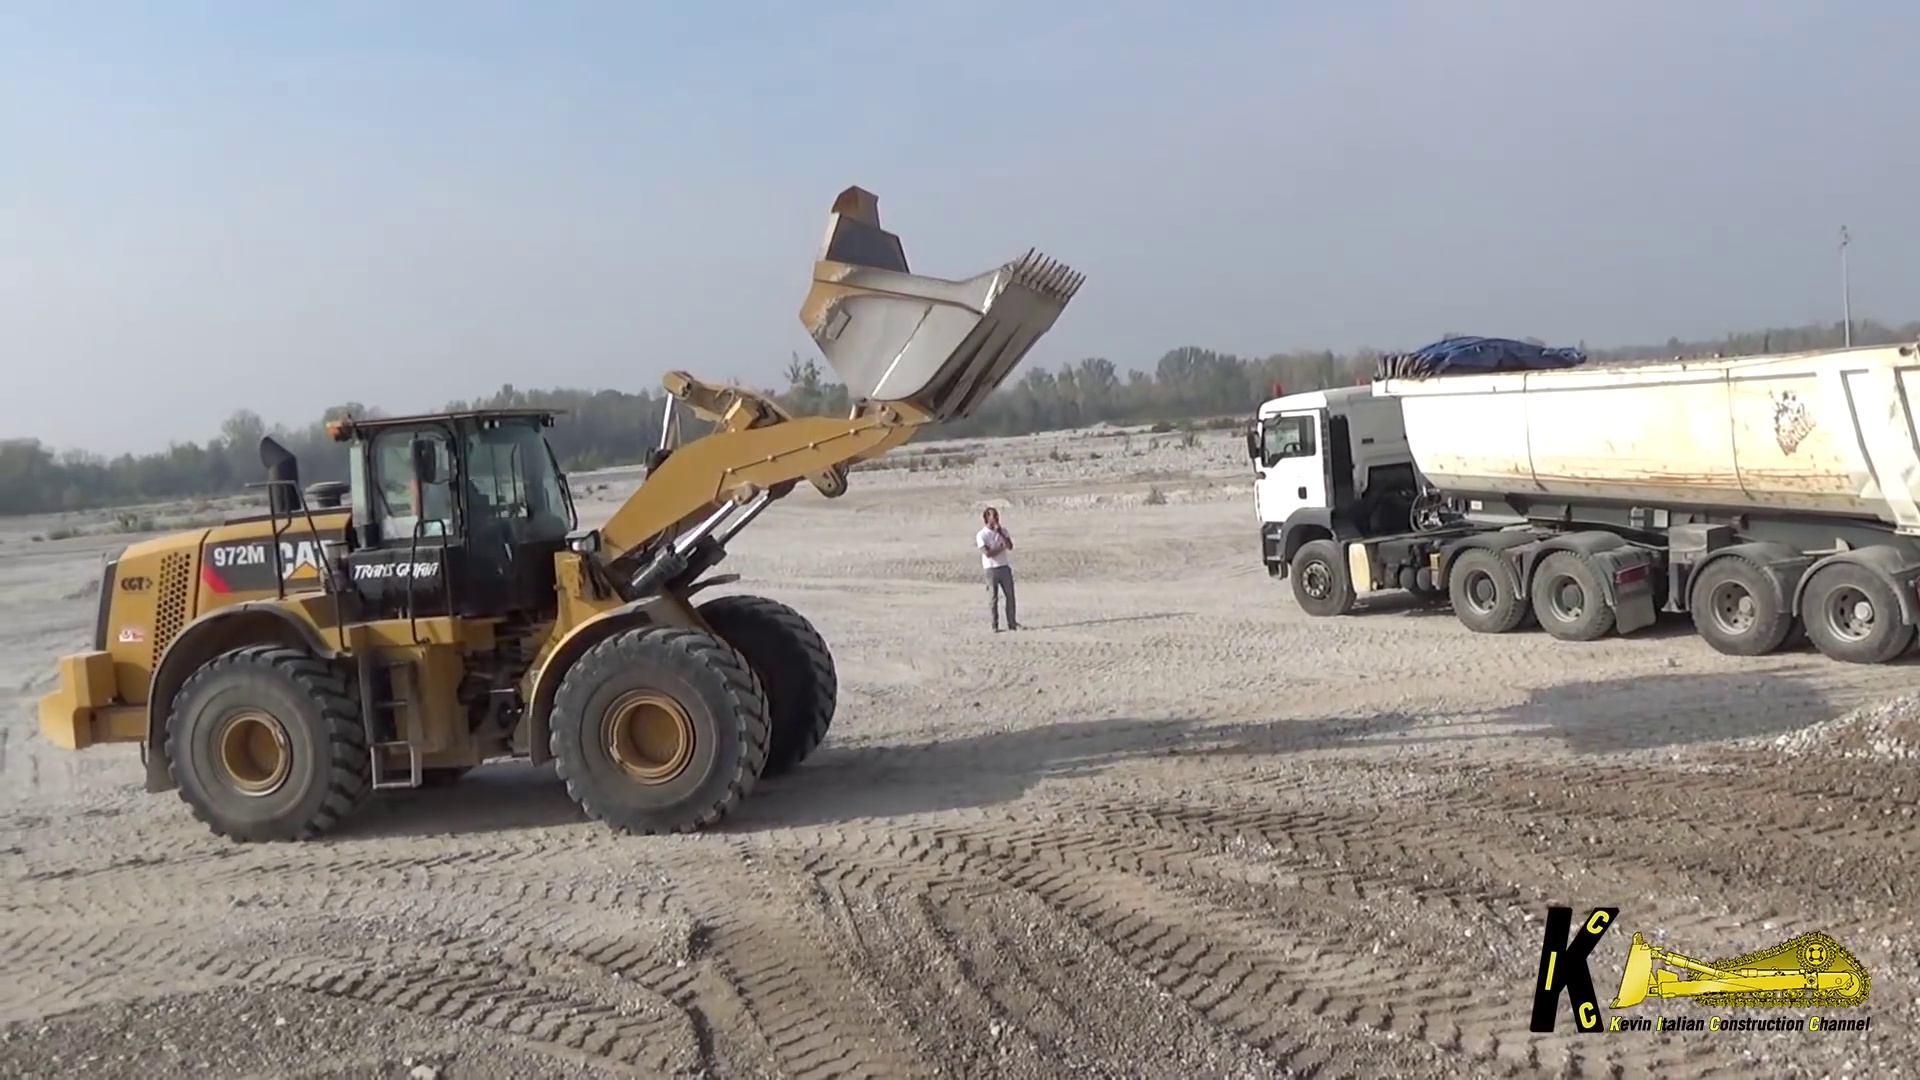person: (980, 509, 1028, 635)
truck: (1257, 331, 1915, 664)
wheel loader: (34, 182, 1085, 837)
